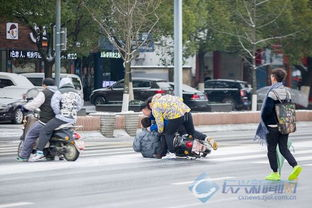fall: (133, 89, 217, 157)
